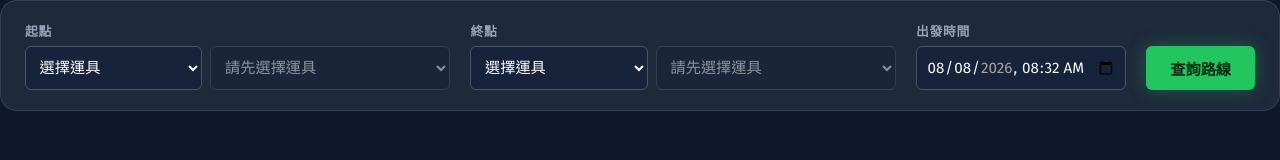
Scenario: SearchForm › shows required-field errors when submitting with empty origin/destination
The image size is (1280, 160).
Check: the dropdown named "起點運具" is shown, box [25,46,202,90]
Click the button "查詢路線" at coordinates (1201, 68), box [1146,46,1255,90]
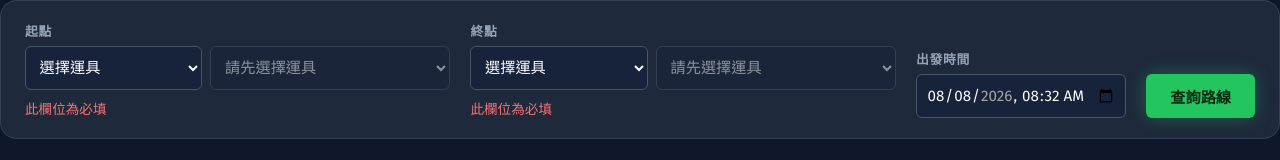
Check: the text "此欄位為必填" is shown 2 times, box [25,101,107,118]; [470,101,552,118]
